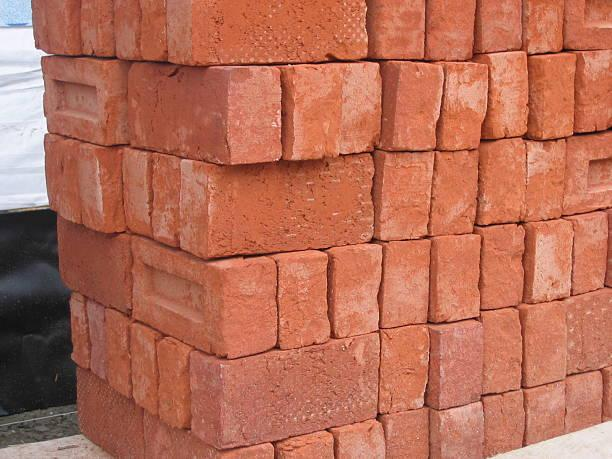Bricks: (186, 328, 373, 441), (127, 237, 279, 357), (184, 167, 371, 247), (132, 68, 282, 159), (167, 4, 363, 60), (289, 66, 382, 150), (54, 220, 133, 314), (40, 139, 111, 233), (141, 416, 271, 458), (76, 373, 140, 458), (44, 60, 118, 129), (383, 60, 438, 147), (384, 242, 437, 326), (280, 254, 330, 341), (331, 252, 384, 334), (381, 153, 430, 239), (430, 237, 482, 317), (480, 143, 528, 226), (360, 0, 427, 57), (433, 323, 481, 402), (563, 299, 612, 374), (154, 339, 193, 429), (523, 307, 566, 388), (536, 54, 577, 136), (486, 60, 532, 133), (530, 220, 571, 297), (571, 136, 612, 210), (486, 311, 523, 393), (480, 231, 522, 301), (390, 332, 429, 406), (448, 62, 482, 143), (149, 153, 179, 243), (572, 222, 609, 293), (59, 290, 91, 370), (434, 412, 487, 459), (126, 319, 153, 410), (427, 0, 473, 53), (439, 146, 470, 224), (477, 0, 527, 48), (526, 387, 567, 444), (524, 0, 568, 53), (383, 412, 431, 459), (492, 391, 529, 449), (119, 149, 144, 234), (568, 0, 612, 48), (102, 318, 129, 394), (583, 54, 612, 124), (531, 149, 558, 220), (34, 1, 73, 50), (136, 0, 168, 56), (79, 3, 109, 57), (570, 379, 601, 429), (110, 3, 140, 53), (84, 297, 102, 379), (332, 430, 379, 458), (282, 439, 339, 458)
